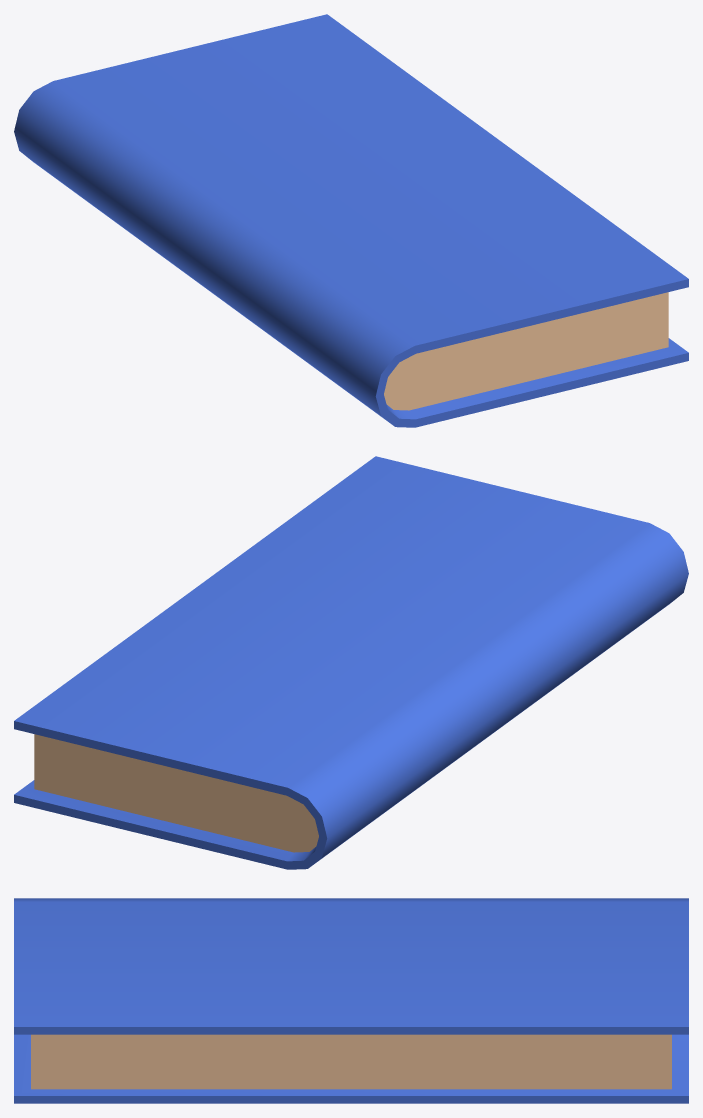
Rendered from BookBlue.fbx.
3 renders of one model, top to bottom at view 1: azimuth 30°, elevation 25°; view 2: azimuth 150°, elevation 25°; view 3: azimuth 270°, elevation 25°, orthographic. The views are drawn at different scales.
Visible parts, largest first — view 1: Book Blue; view 2: Book Blue; view 3: Book Blue.
Boxes of the visible parts, x1=… form: Book Blue: x1=14, y1=14, x2=688, y2=427; Book Blue: x1=14, y1=456, x2=688, y2=869; Book Blue: x1=14, y1=898, x2=688, y2=1103.
Bounding box in the file's own units: 100 × 25 × 200.
